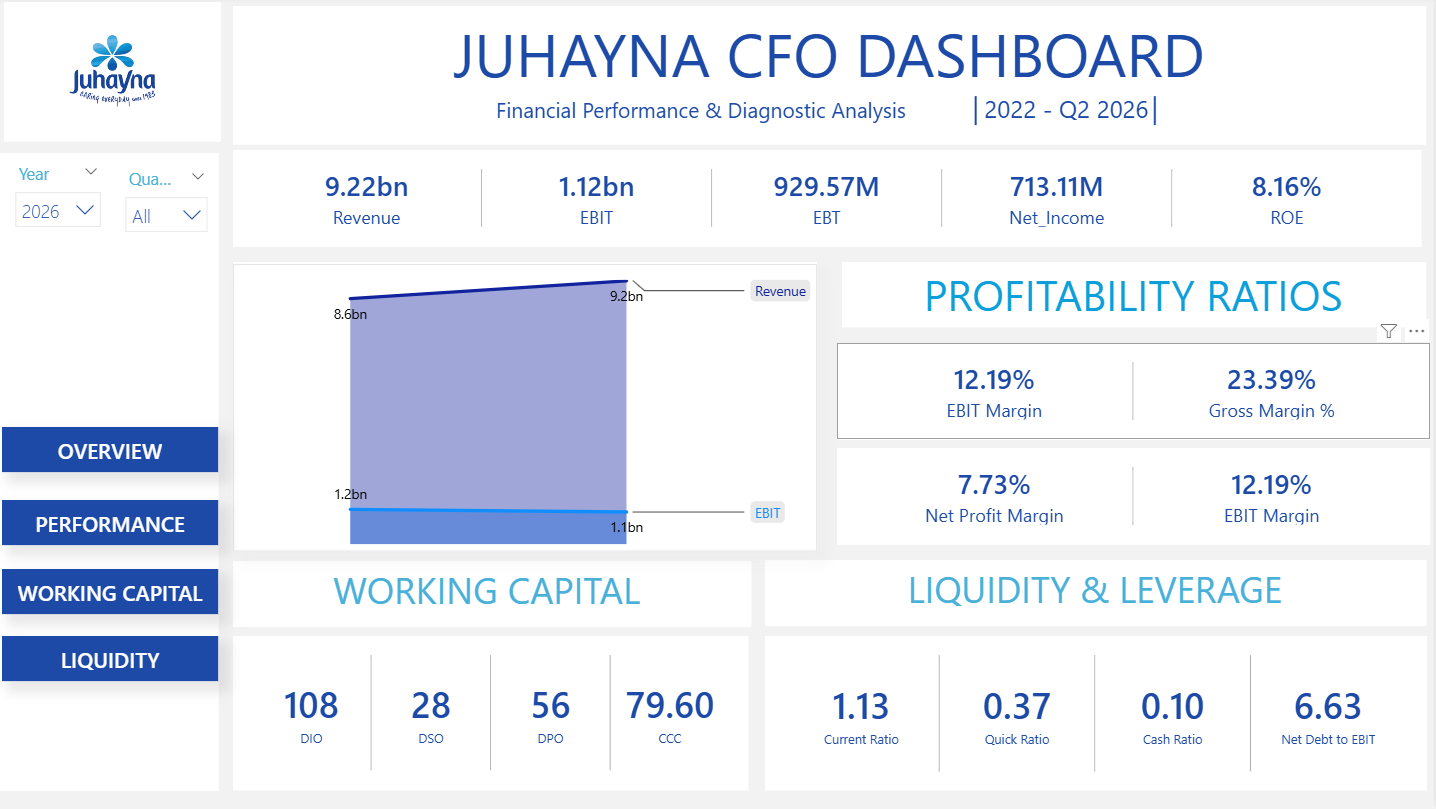

This screenshot's page, from the dashboard's own definition file:
{"tool":"powerbi","page":{"name":"OVERVIEW ","canvas":[1280,720],"ordinal":0},"visuals":[{"type":"shape","box":[11.1,4,192.5,123.9],"z":0,"group":"g5"},{"type":"shape","box":[214.4,7.8,1058.3,123],"z":0,"group":"g6"},{"type":"shape","box":[7.7,137.9,194.4,565.6],"z":0,"group":"g7"},{"type":"slicer","title":"quarter","fields":{"Values":["Dim_Date.Quarter"]},"box":[108.1,145.4,93.1,75.4],"z":0,"group":"g2"},{"type":"shape","box":[754.9,234.3,518,58.5],"z":0,"group":"g3"},{"type":"shape","box":[214.7,234.8,518,255],"z":0,"group":"g9"},{"type":"group","id":"g1","title":"LIQUI & LEV title","box":[686,497.1,586.6,59.7],"z":0,"group":"g8"},{"type":"shape","box":[686,498.6,586.6,58.6],"z":0,"group":"g1"},{"type":"shape","box":[215,499.8,459.7,58.6],"z":0,"group":"g4"},{"type":"textbox","box":[214.4,7.8,1058.3,123],"z":1000,"group":"g6"},{"type":"image","box":[11.1,8,191.8,119.8],"z":1000,"group":"g5"},{"type":"slicer","title":"year","fields":{"Values":["Dim_Date.Year"]},"box":[10.8,141,95.8,79.5],"z":1000,"group":"g2"},{"type":"group","id":"g2","title":"Slicers","box":[10.8,141,721.9,348.8],"z":1000,"group":"g7"},{"type":"textbox","box":[754.9,232.8,516.9,60],"z":1000,"group":"g3"},{"type":"group","id":"g3","title":"PROFITABILITY title","box":[754.9,232.8,518,59.5],"z":1000},{"type":"lineChart","fields":{"Category":["Dim_Date.Quarter"],"Y":["measurehosam.EBIT","measurehosam.Revenue"]},"box":[214.6,236.7,517.8,255.4],"z":1000,"group":"g9"},{"type":"textbox","box":[686,497.1,585.3,60.2],"z":1000,"group":"g1"},{"type":"textbox","box":[215,498.3,458.7,60.2],"z":1000,"group":"g4"},{"type":"cardVisual","title":"LIQU & LEVE cards","fields":{"Data":["measurehosam.Current Ratio","measurehosam.Quick Ratio","measurehosam.Cash Ratio","measurehosam.Net Debt to EBIT"]},"box":[685.9,566.3,586.9,137.2],"z":1000,"group":"g8"},{"type":"cardVisual","title":"CAPITALE cards","fields":{"Data":["saief.DIO","saief.DSO","saief.DPO","saief.CCC"]},"box":[215,566.6,457.3,136.7],"z":2000,"group":"g4"},{"type":"group","id":"g4","title":"WORKING CAPITAL ","box":[215,498.3,459.7,205],"z":3000},{"type":"group","id":"g5","title":"Logo","box":[11.1,4,191.5,123],"z":4000},{"type":"group","id":"g6","title":"Title","box":[214.4,7.8,1058.9,122.2],"z":5000},{"type":"group","id":"g7","title":"Slicer Pane","box":[7.7,137.9,725,565.6],"z":6000},{"type":"group","id":"g8","title":"LIQUIDITY & LEVERAGE","box":[685.9,497.1,586.9,206.3],"z":7000},{"type":"group","id":"g9","title":"ebit and revenue","box":[214.6,234.8,518.1,257.3],"z":8000},{"type":"actionButton","box":[9.3,381.4,191.7,40.4],"z":9000},{"type":"actionButton","box":[9.3,445.7,191.7,40.4],"z":10000},{"type":"actionButton","box":[9.3,506.8,191.7,40.4],"z":11000},{"type":"actionButton","box":[9.3,566.9,191.7,40.4],"z":12000},{"type":"cardVisual","title":"CAPITALE cards","fields":{"Data":["measurehosam.Revenue","measurehosam.EBIT","ahmed_measures.EBT","measurehosam.Net_Income","measurehosam.ROE"]},"box":[214.4,135.6,1054.4,85.6],"z":14000},{"type":"cardVisual","title":"CAPITALE cards","fields":{"Data":["ahmed_measures.EBIT Margin","measurehosam.Gross Margin %"]},"box":[750,306.7,525.6,85.6],"z":15000},{"type":"cardVisual","title":"CAPITALE cards","fields":{"Data":["ahmed_measures.Net Profit Margin","ahmed_measures.EBIT Margin"]},"box":[750,400,525.6,85.6],"z":16000}]}

Visuals, with their boxes in screenshot pixels (x1, y1, x2, y2), scaled from the page's 1280x720 canvas onto the 1436x809 screenshot:
shape: bbox=[12, 4, 228, 144]
shape: bbox=[241, 9, 1428, 147]
shape: bbox=[9, 155, 227, 790]
"quarter" slicer: bbox=[121, 163, 226, 248]
shape: bbox=[847, 263, 1428, 329]
shape: bbox=[241, 264, 822, 550]
"LIQUI & LEV title" group: bbox=[770, 559, 1428, 626]
shape: bbox=[770, 560, 1428, 626]
shape: bbox=[241, 562, 757, 627]
textbox: bbox=[241, 9, 1428, 147]
image: bbox=[12, 9, 228, 144]
"year" slicer: bbox=[12, 158, 120, 248]
"Slicers" group: bbox=[12, 158, 822, 550]
textbox: bbox=[847, 262, 1427, 329]
"PROFITABILITY title" group: bbox=[847, 262, 1428, 328]
lineChart - Dim_Date.Quarter x measurehosam.EBIT: bbox=[241, 266, 822, 553]
textbox: bbox=[770, 559, 1426, 626]
textbox: bbox=[241, 560, 756, 628]
"LIQU & LEVE cards" cardVisual: bbox=[769, 636, 1428, 790]
"CAPITALE cards" cardVisual: bbox=[241, 637, 754, 790]
"WORKING CAPITAL " group: bbox=[241, 560, 757, 790]
"Logo" group: bbox=[12, 4, 227, 143]
"Title" group: bbox=[241, 9, 1428, 146]
"Slicer Pane" group: bbox=[9, 155, 822, 790]
"LIQUIDITY & LEVERAGE" group: bbox=[769, 559, 1428, 790]
"ebit and revenue" group: bbox=[241, 264, 822, 553]
actionButton: bbox=[10, 429, 225, 474]
actionButton: bbox=[10, 501, 225, 546]
actionButton: bbox=[10, 569, 225, 615]
actionButton: bbox=[10, 637, 225, 682]
"CAPITALE cards" cardVisual: bbox=[241, 152, 1423, 249]
"CAPITALE cards" cardVisual: bbox=[841, 345, 1431, 441]
"CAPITALE cards" cardVisual: bbox=[841, 449, 1431, 546]
